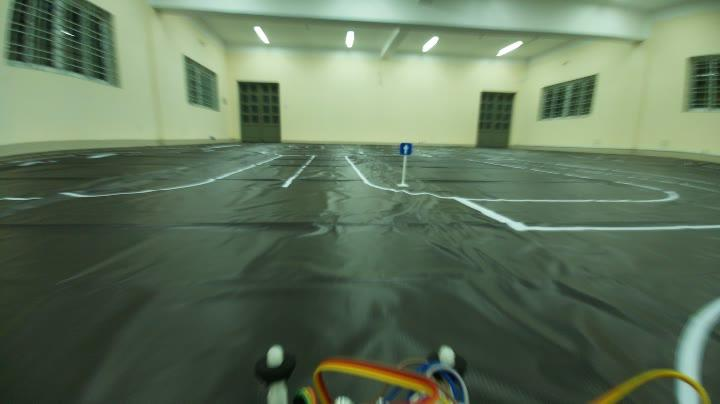onewayroad: (392, 138, 416, 160)
